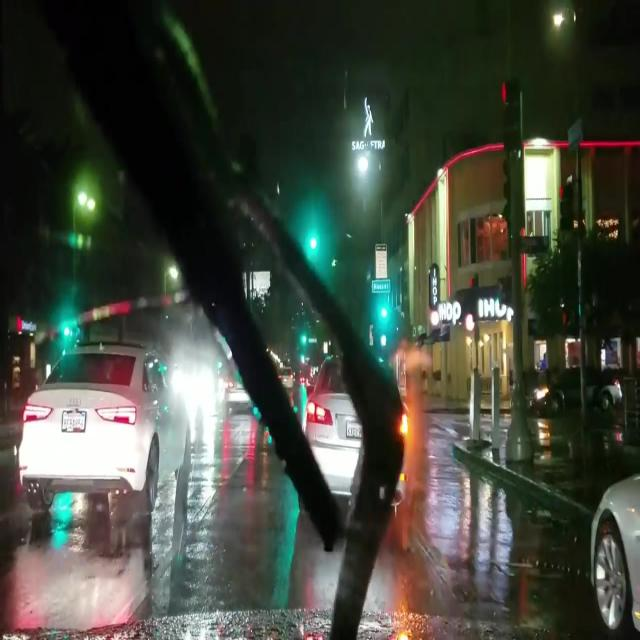Car: (17, 347, 190, 513), (303, 351, 356, 508), (594, 472, 639, 623), (531, 367, 622, 417)
